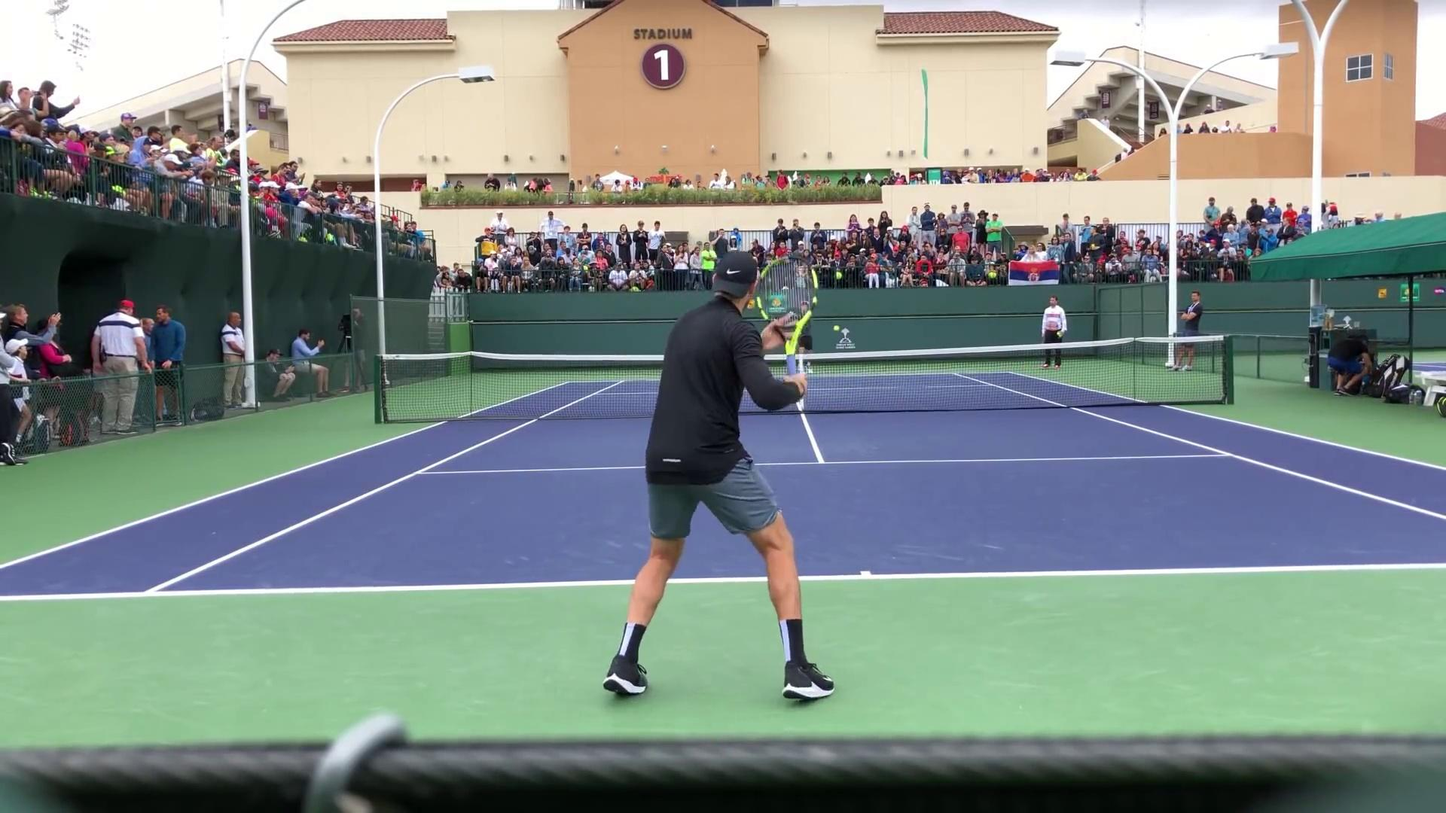ball: (832, 324, 841, 332)
